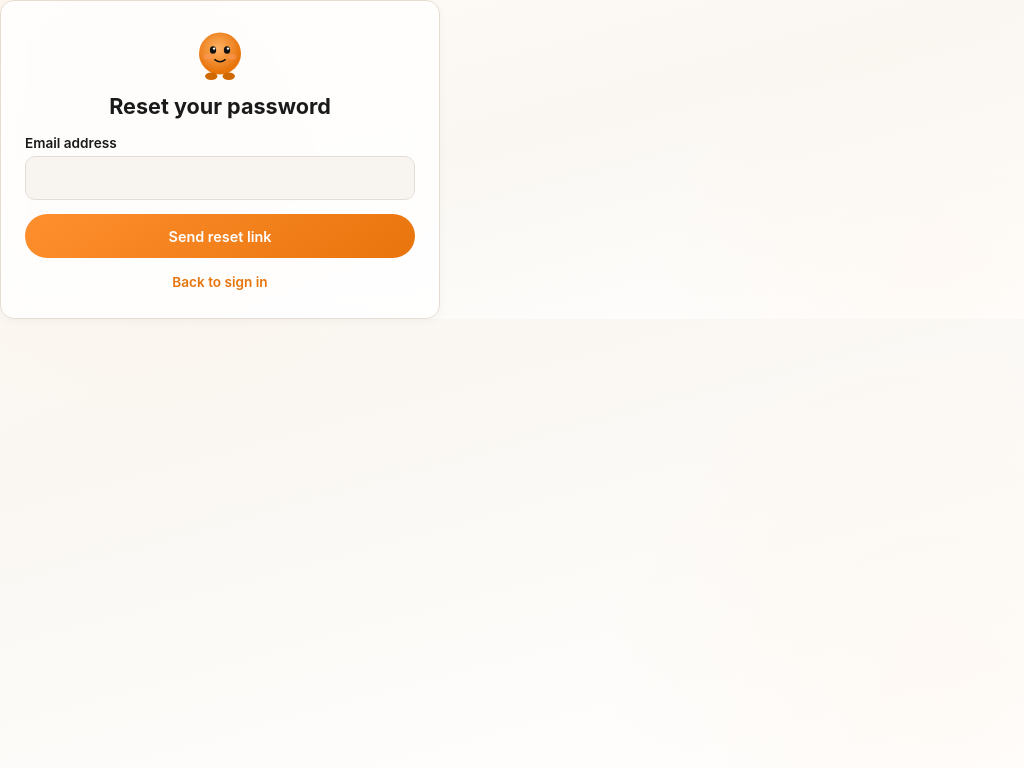
Scenario: AuthForm › success flows › forgot success → shows "Reset link sent"
Type "test@test.com" into the field with id "auth-email" at (220, 178), box [25,156,415,200]
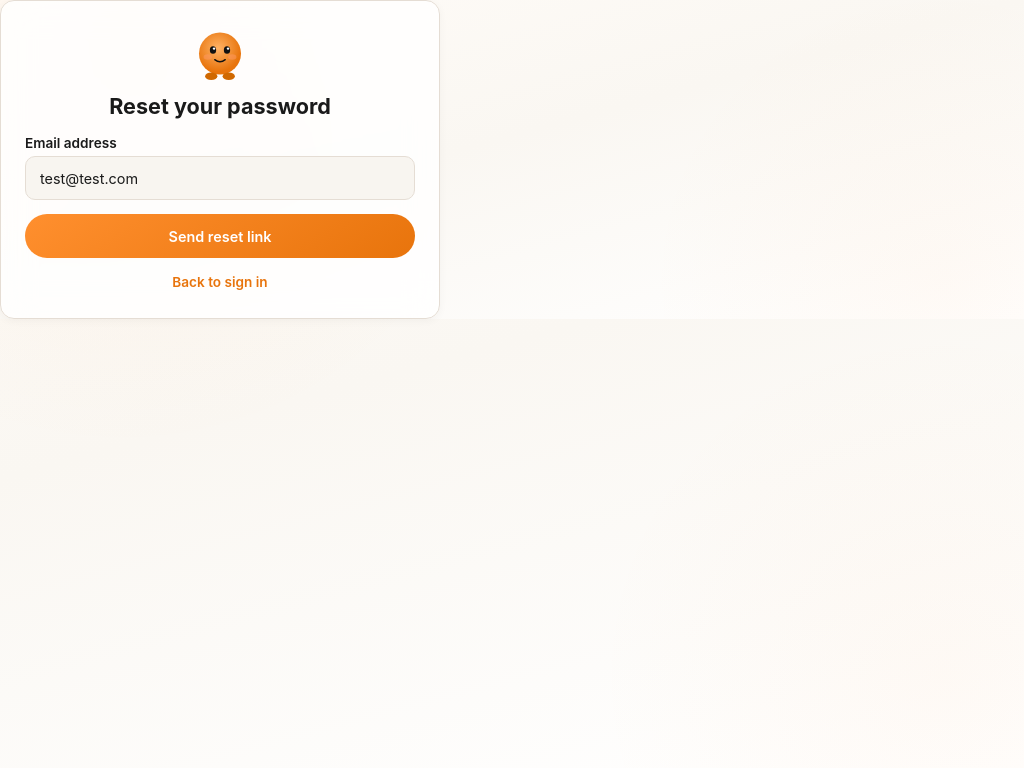
Submit the form, box [25,135,415,258]
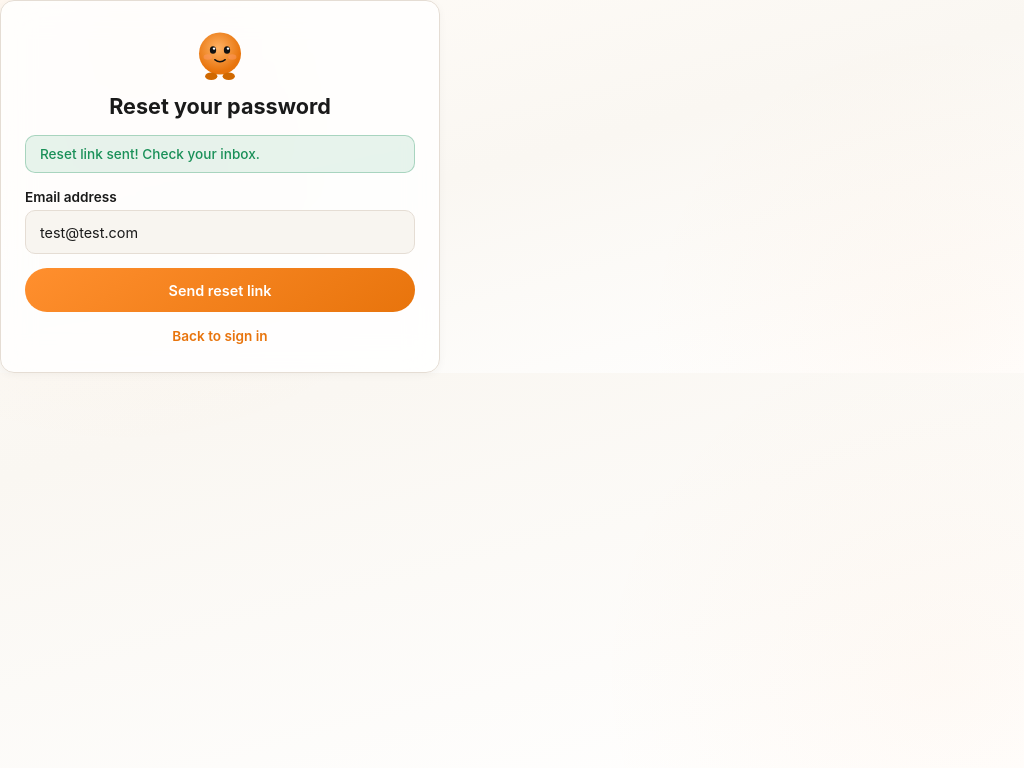
Expected: the message "Reset link sent! Check your inbox." is shown, [25,135,415,173]
Expected: the message with class "success-msg" shows "Reset link sent", [40,146,260,162]
